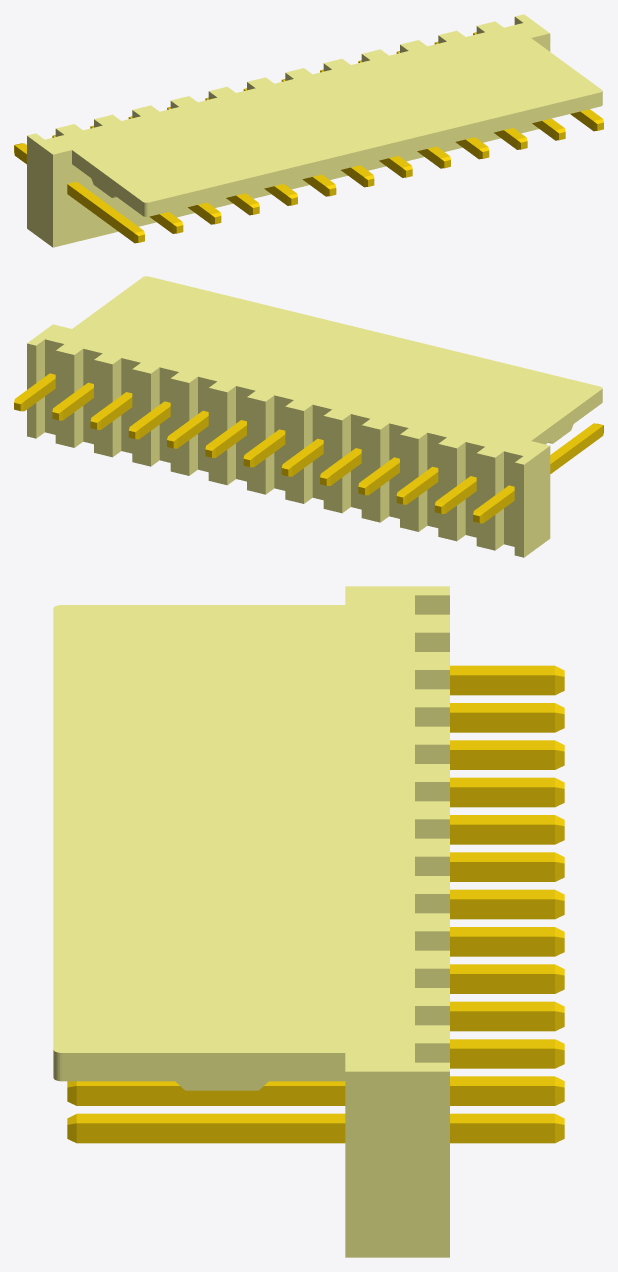
Rendered from DS1070-13 (WF-13 CONNFLY).obj.
3 views of the same model, one above another, from view 1: azimuth 30°, elevation 25°; view 2: azimuth 150°, elevation 25°; view 3: azimuth 270°, elevation 25° (orthographic). The views are drawn at different scales.
Visible parts, largest first — view 1: DS1070-13_(WF-13_CONNFLY); view 2: DS1070-13_(WF-13_CONNFLY); view 3: DS1070-13_(WF-13_CONNFLY).
Boxes of the visible parts, x1,y1,x2,y2 form: DS1070-13_(WF-13_CONNFLY): (14, 14, 603, 247); DS1070-13_(WF-13_CONNFLY): (14, 276, 603, 557); DS1070-13_(WF-13_CONNFLY): (53, 586, 564, 1257).
Size of the model in its own units: 0.0115 by 0.00205 by 0.0051.
